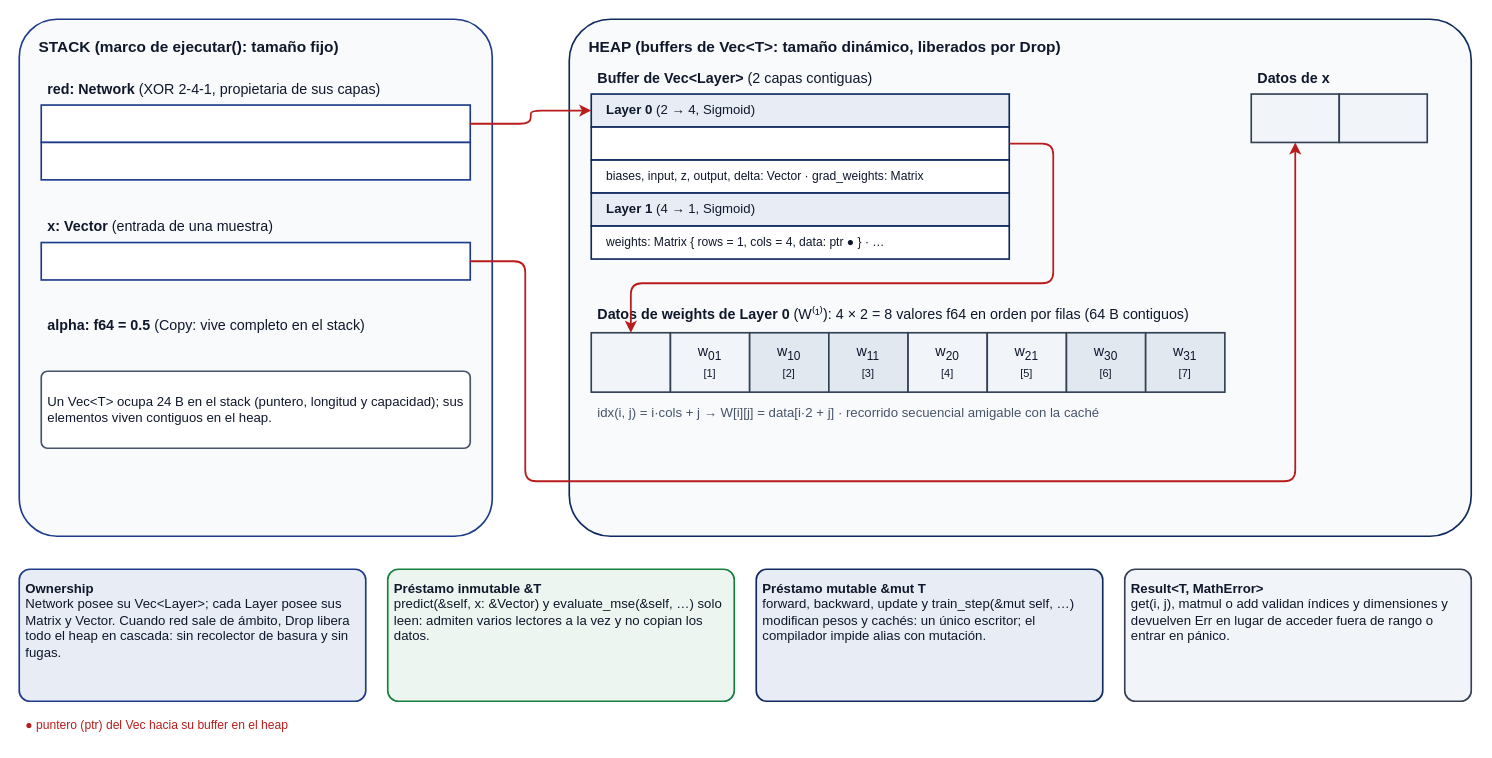
Image size: 1492x758. Some labels were removed from this diagram. The centre of each missing label's shape, as x and y in pixels:
"data: Vec<f64> { ptr ●, len = 2, cap = 2 }" goes at point (255, 260).
"layers: Vec<Layer> { ptr ●, len = 2, cap = 2 }" goes at point (255, 123).
"loss: Mse (struct de tamaño 0)" goes at point (255, 160).
"w 00 [0]" goes at point (630, 361).
"weights: Matrix { rows = 4, cols = 2, data: ptr ● }" goes at point (800, 143).
"x 1" goes at point (1295, 118).
"x 2" goes at point (1383, 118).
